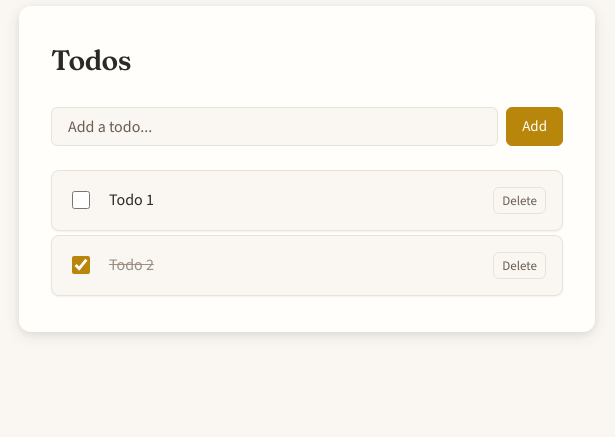
Test: App › displays error when delete fails
Click the button with aria-label "Delete". click: (520, 200)
box: [493, 187, 546, 214]
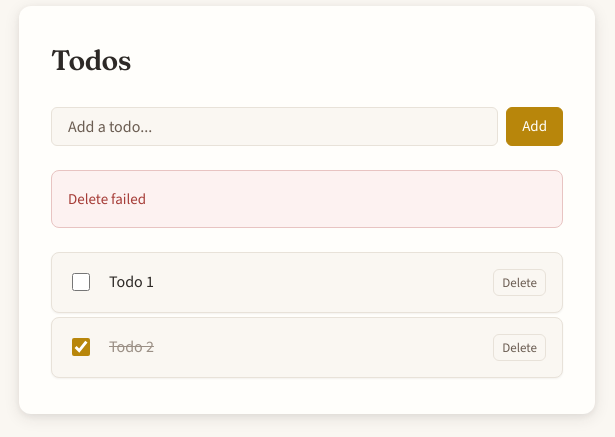
Now the message "Delete failed" is shown, box [51, 170, 563, 228]
